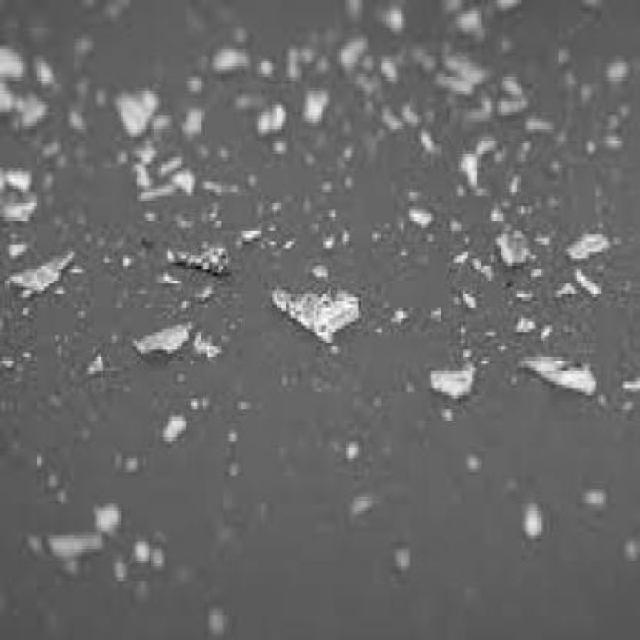kaca: (268, 283, 355, 343), (521, 346, 594, 402), (156, 225, 227, 277), (9, 249, 69, 302), (426, 360, 489, 406), (126, 319, 191, 363), (112, 77, 154, 132), (45, 528, 117, 560), (436, 50, 482, 99), (449, 91, 500, 129), (0, 88, 45, 129), (492, 225, 530, 269), (0, 168, 35, 214), (566, 266, 600, 311), (298, 84, 328, 134), (448, 8, 489, 42), (0, 41, 26, 90), (568, 224, 603, 258), (522, 492, 546, 536), (203, 43, 240, 71), (331, 28, 358, 66), (186, 326, 222, 354), (194, 283, 226, 311), (200, 176, 242, 196), (258, 94, 282, 129), (406, 195, 429, 228), (126, 159, 154, 186), (500, 74, 522, 108), (457, 148, 472, 197), (23, 49, 46, 80), (82, 349, 103, 382), (143, 182, 175, 203), (95, 500, 118, 528), (63, 106, 86, 134), (90, 77, 108, 112), (71, 71, 94, 98), (376, 5, 398, 32), (158, 151, 182, 175), (191, 389, 214, 414), (203, 609, 223, 637), (8, 235, 28, 263), (72, 32, 92, 60), (377, 101, 395, 132), (162, 406, 184, 431), (146, 532, 159, 571), (596, 132, 622, 151), (606, 52, 625, 77), (532, 312, 550, 337), (580, 80, 598, 105), (317, 60, 335, 85), (184, 101, 198, 132), (398, 99, 414, 126), (621, 532, 637, 557), (126, 532, 142, 557), (158, 263, 174, 288), (512, 283, 528, 308), (552, 42, 571, 63), (358, 77, 377, 98), (524, 116, 548, 132), (580, 483, 595, 508), (468, 252, 486, 272), (449, 248, 468, 266), (377, 52, 389, 80), (611, 105, 629, 123), (172, 162, 188, 182), (268, 132, 282, 154), (184, 66, 198, 88), (254, 55, 268, 77), (512, 311, 528, 329), (414, 118, 426, 140), (621, 368, 637, 384), (150, 112, 168, 126), (145, 203, 163, 217), (282, 46, 290, 77), (472, 132, 485, 151), (617, 392, 631, 406), (134, 137, 148, 151), (298, 36, 310, 52), (541, 150, 554, 164), (494, 140, 503, 160), (519, 134, 526, 158), (317, 230, 331, 242), (312, 263, 323, 277), (554, 280, 563, 297), (237, 90, 249, 102), (109, 557, 122, 568), (336, 224, 346, 238), (458, 288, 471, 298), (362, 60, 371, 74), (326, 343, 337, 354), (582, 137, 590, 151), (240, 224, 254, 230), (566, 66, 572, 77)
